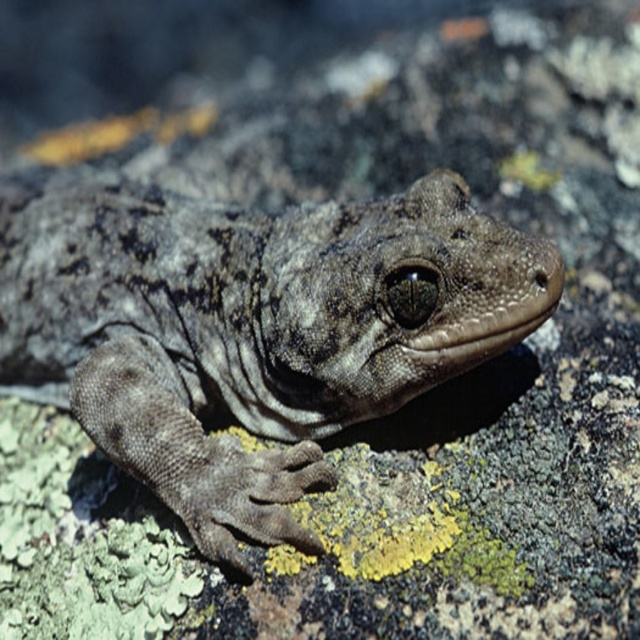Lizard: (27, 167, 567, 622)
